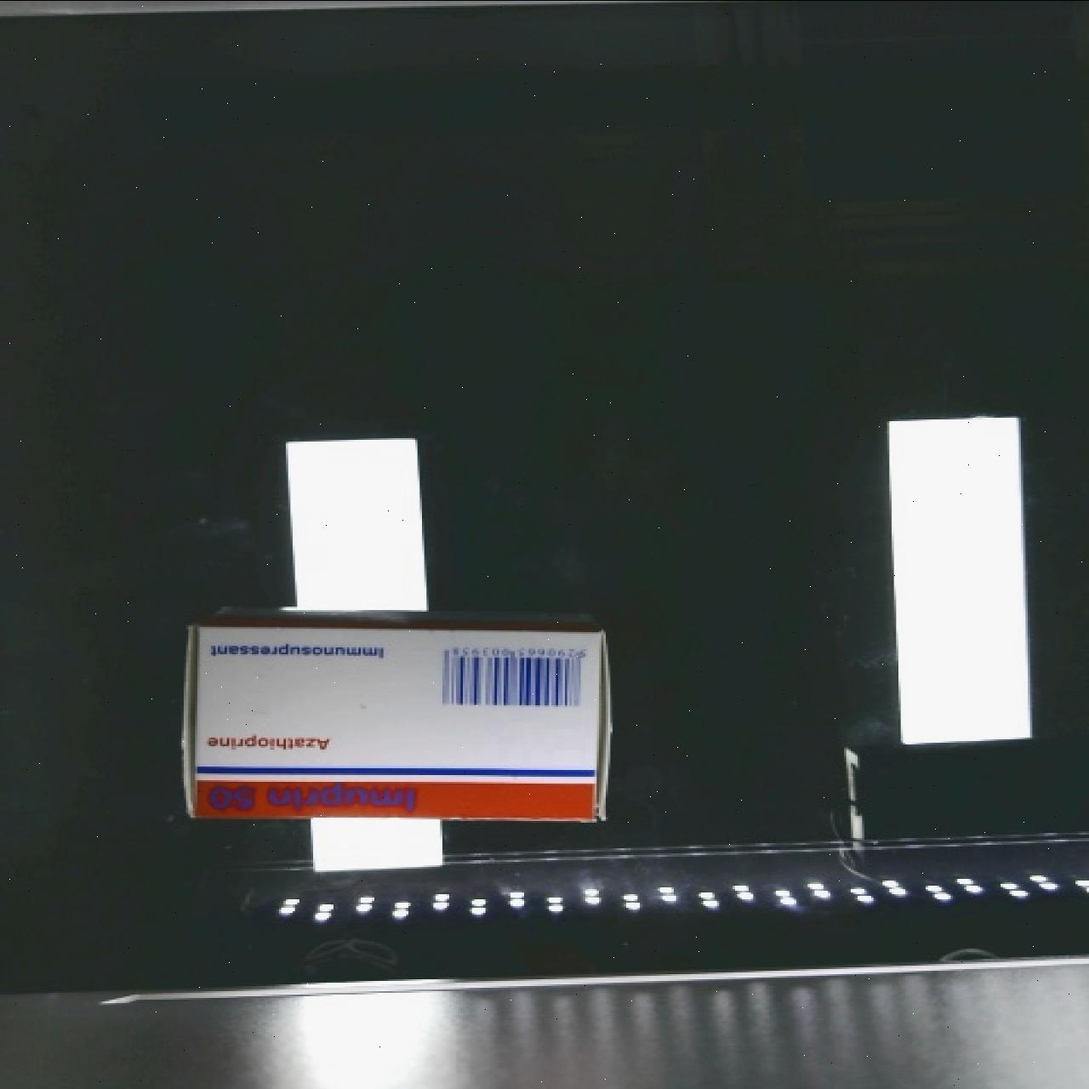medicine_label_obb: (185, 768, 434, 821)
